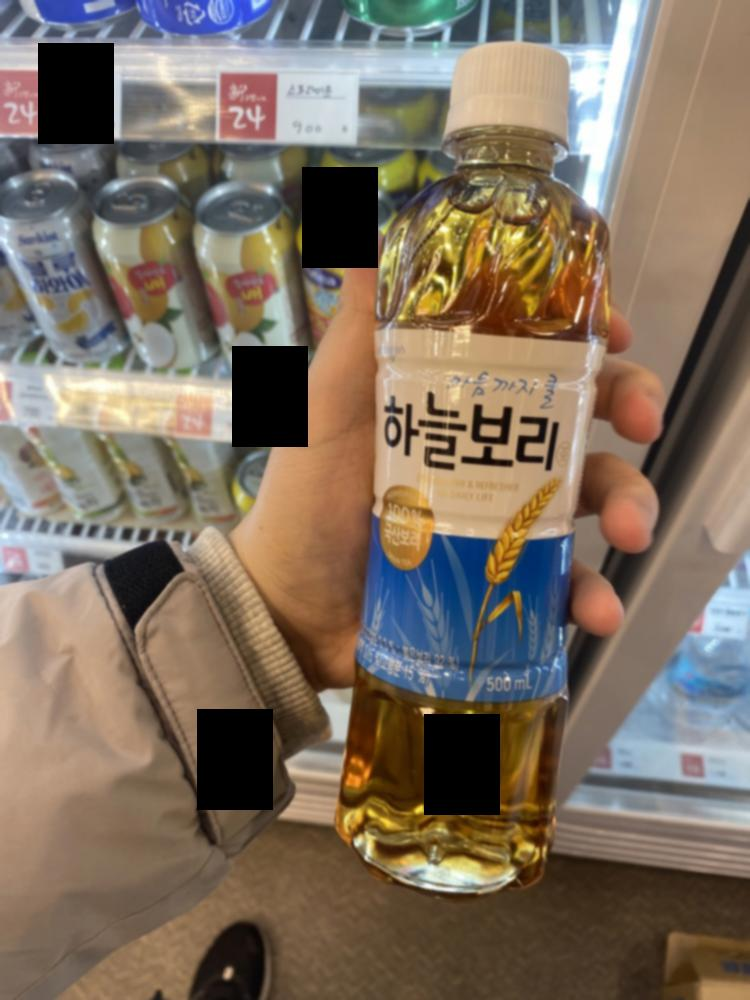haneulbori: (373, 38, 599, 909)
